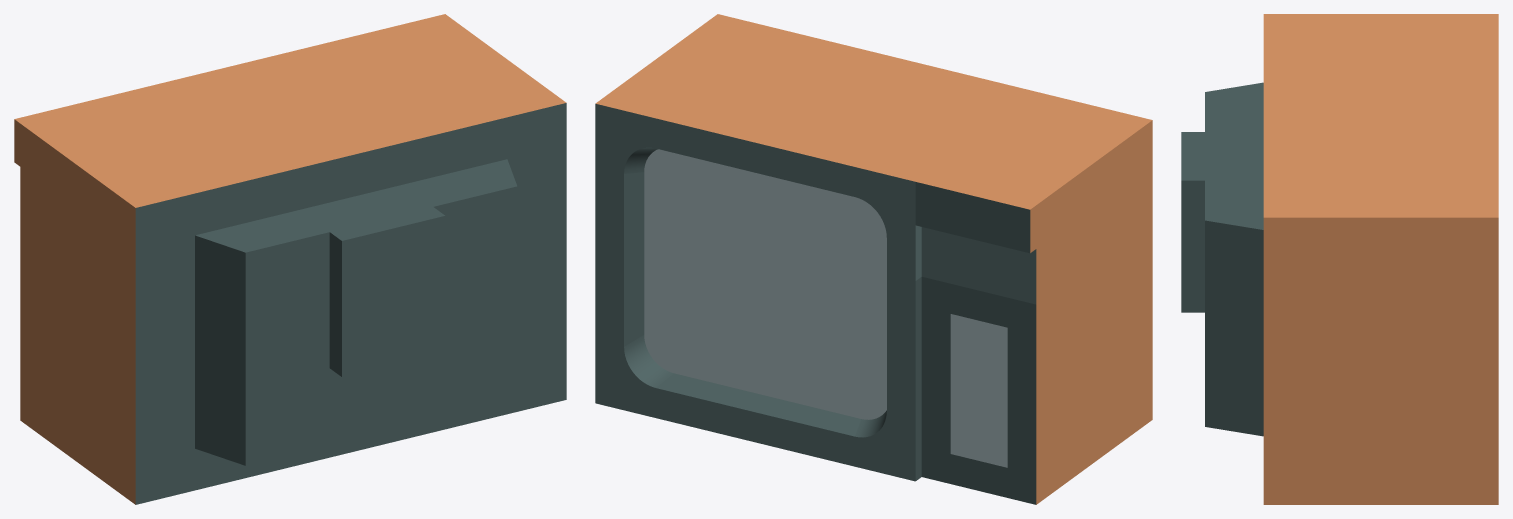
File: televisionVintage.obj
The picture shows the model from 3 angles, left to right: view 1: azimuth 30°, elevation 25°; view 2: azimuth 150°, elevation 25°; view 3: azimuth 270°, elevation 25°; orthographic projection. The views are drawn at different scales.
Parts seen in each view (by area): view 1: televisionVintage; view 2: televisionVintage; view 3: televisionVintage.
Boxes of the visible parts, bbox=[...] form: televisionVintage: bbox=[14, 14, 566, 504]; televisionVintage: bbox=[595, 14, 1152, 504]; televisionVintage: bbox=[1181, 14, 1498, 504].
Bounding box in the file's own units: 0.41 × 0.27 × 0.27.
